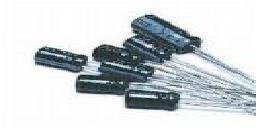Electrolytic Capacitor: (127, 13, 225, 50), (72, 73, 147, 98), (34, 43, 94, 72), (124, 87, 190, 113)
